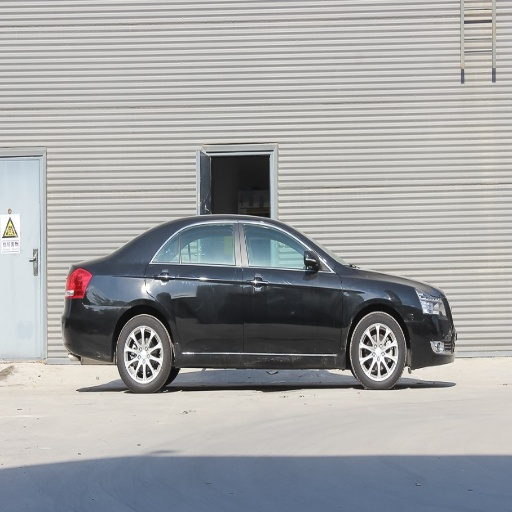back_right_door: (150, 220, 242, 352)
front_right_door: (240, 222, 342, 352)
